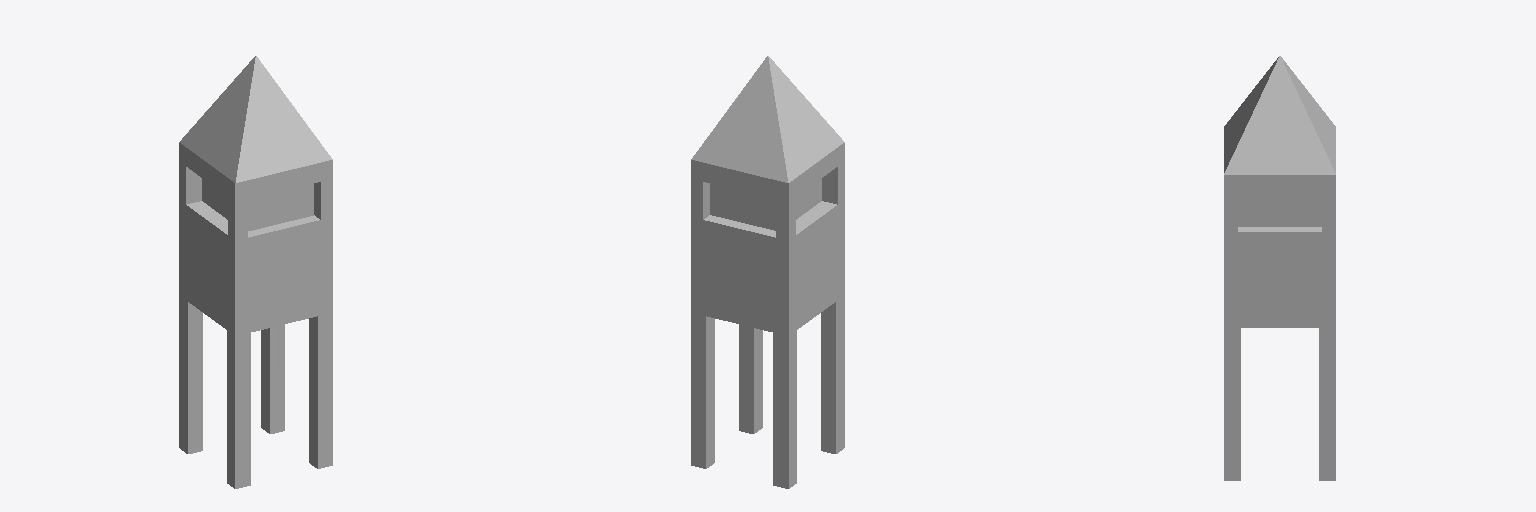
The model's file is tower.obj.
3 renders of one model, left to right at view 1: azimuth 30°, elevation 25°; view 2: azimuth 150°, elevation 25°; view 3: azimuth 270°, elevation 25°, orthographic.
Visible parts, largest first — view 1: Cube; view 2: Cube; view 3: Cube.
Part boxes in pixels (bbox=[...]): Cube: bbox=[179, 56, 332, 488]; Cube: bbox=[691, 56, 844, 488]; Cube: bbox=[1224, 56, 1335, 480].
Size of the model in its own units: 2 by 7.88 by 2.